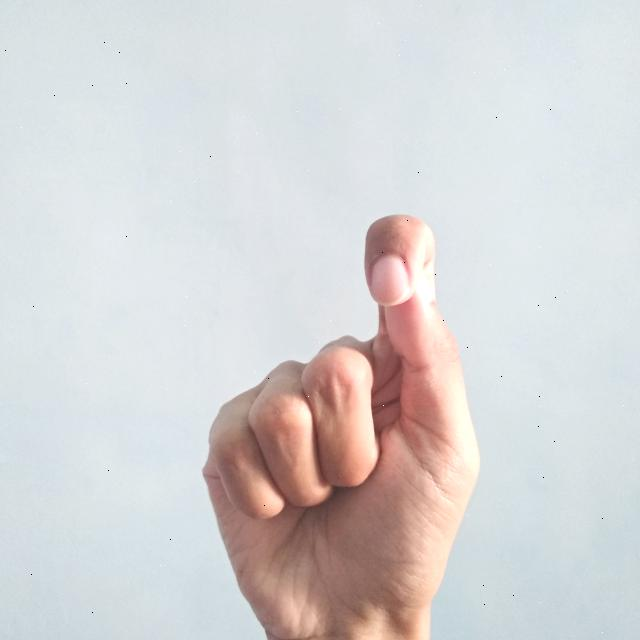T: (196, 207, 490, 640)
